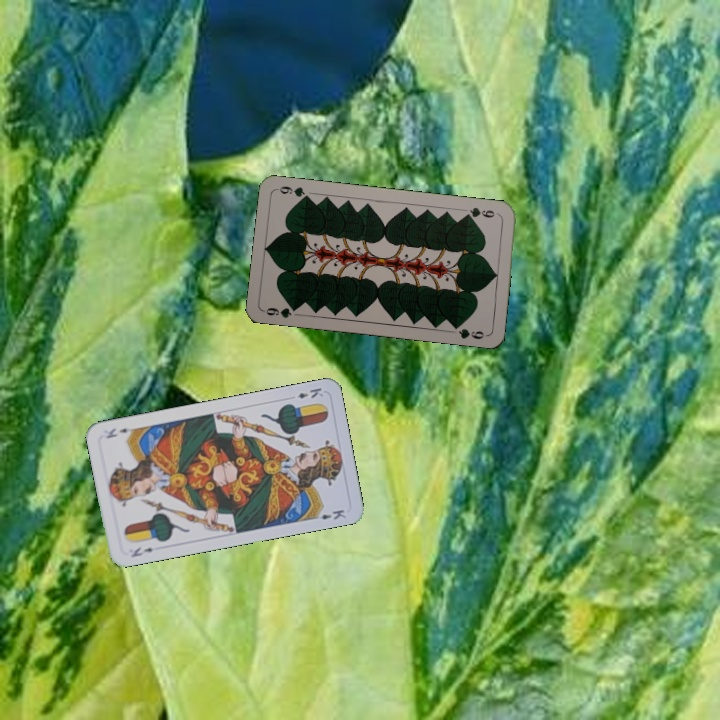EK: (285, 383, 326, 402), (127, 543, 156, 560)
G9: (260, 302, 302, 320), (460, 203, 502, 220)
